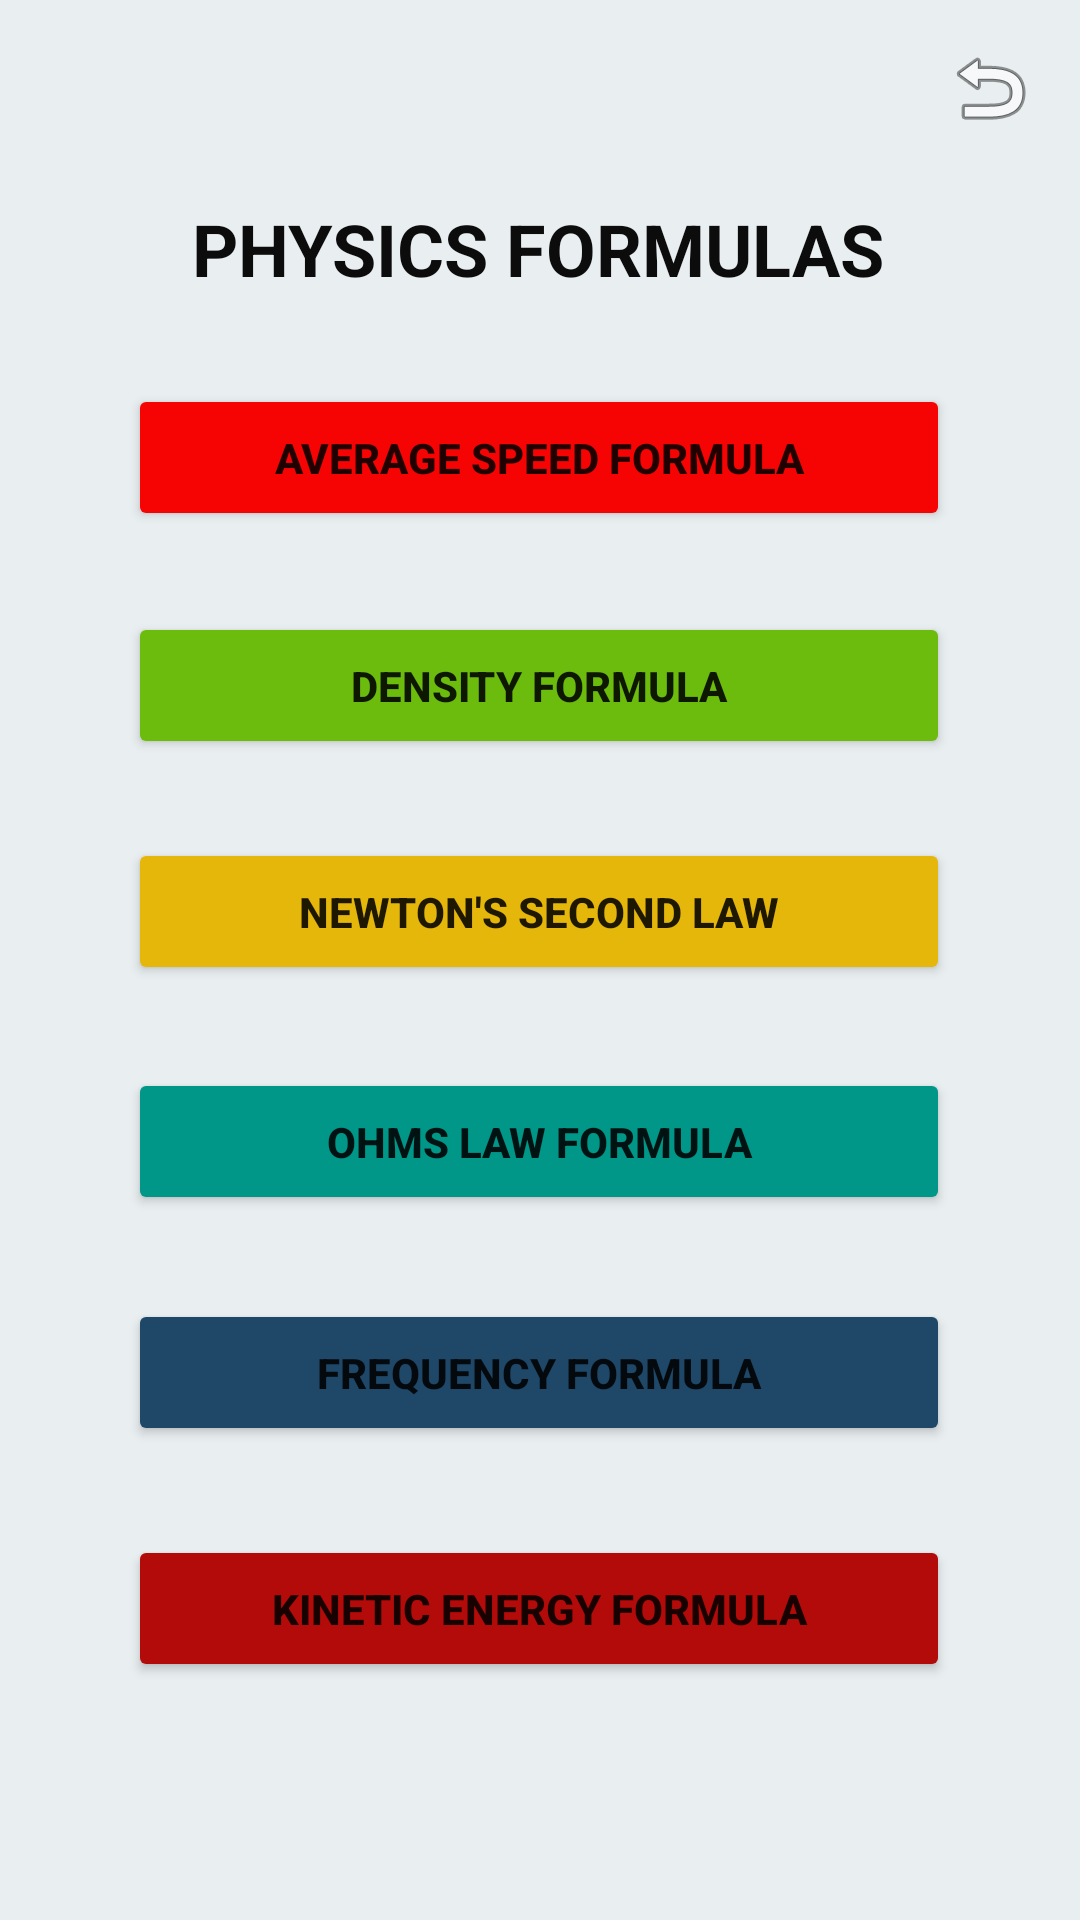

Locate icon controls on the screen. Image size 1080×1920, boxes as (x1, y1, x2, y2).
revert: (957, 57, 1026, 120)
